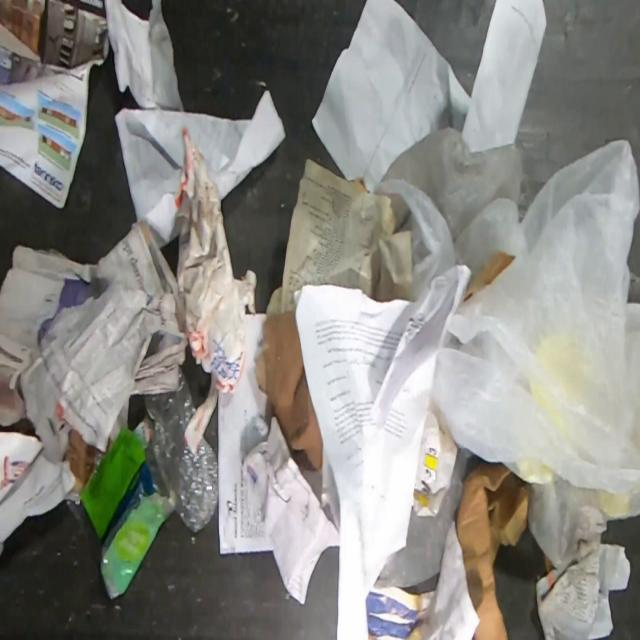cardboard: (456, 463, 548, 640)
rigid_plastic: (144, 363, 218, 537)
soft_plastic: (370, 134, 640, 569), (80, 411, 176, 599), (377, 125, 523, 242)
